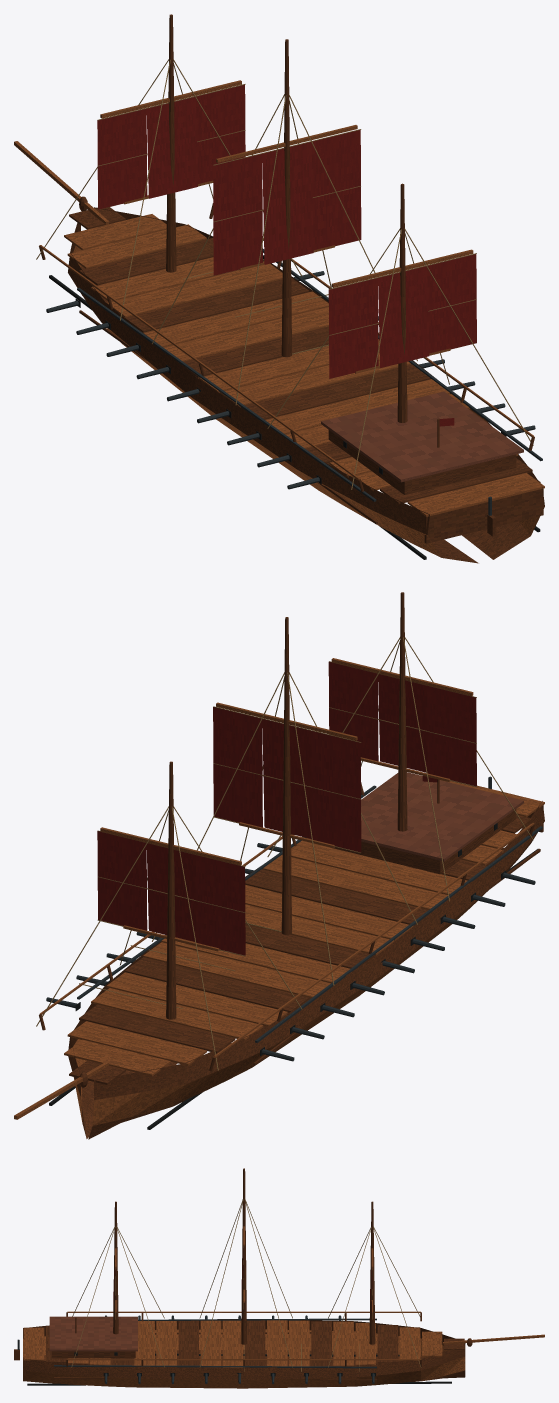
File: KIT_ship_draven_flagship.gltf
3 renders of one model, top to bottom at view 1: azimuth 30°, elevation 25°; view 2: azimuth 150°, elevation 25°; view 3: azimuth 270°, elevation 25°, orthographic. The views are drawn at different scales.
Parts seen in each view (by area): view 1: hull, sail_02, sail_03, sail_01; view 2: hull, sail_02, sail_01, sail_03; view 3: hull.
Boxes of the visible parts, x1,y1,x2,y2 form: hull: (14, 14, 544, 563); sail_02: (213, 129, 361, 275); sail_03: (328, 253, 476, 378); sail_01: (97, 84, 245, 209); hull: (14, 592, 544, 1139); sail_02: (213, 706, 361, 853); sail_01: (97, 830, 245, 956); sail_03: (328, 661, 476, 786); hull: (23, 1168, 544, 1388).
Bounding box in the file's own units: 9.62 × 14.04 × 32.42.
7 materials, 7 textured.
